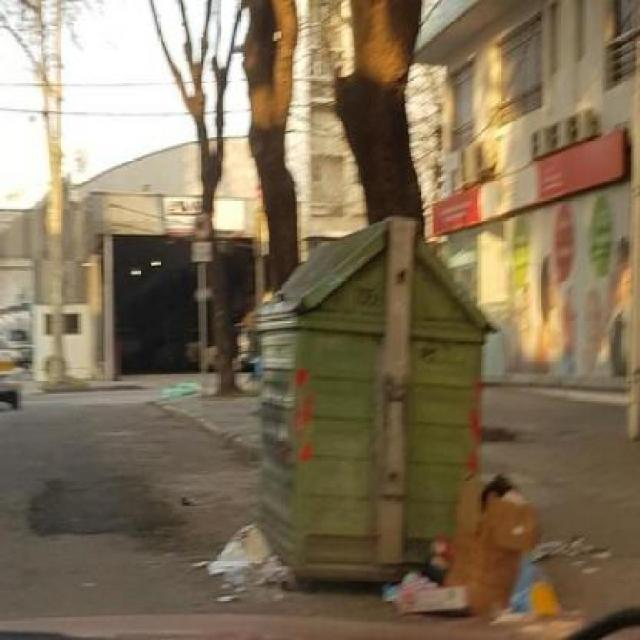garbage: (428, 437, 616, 638), (200, 511, 298, 604), (374, 572, 482, 618), (157, 368, 198, 399)
